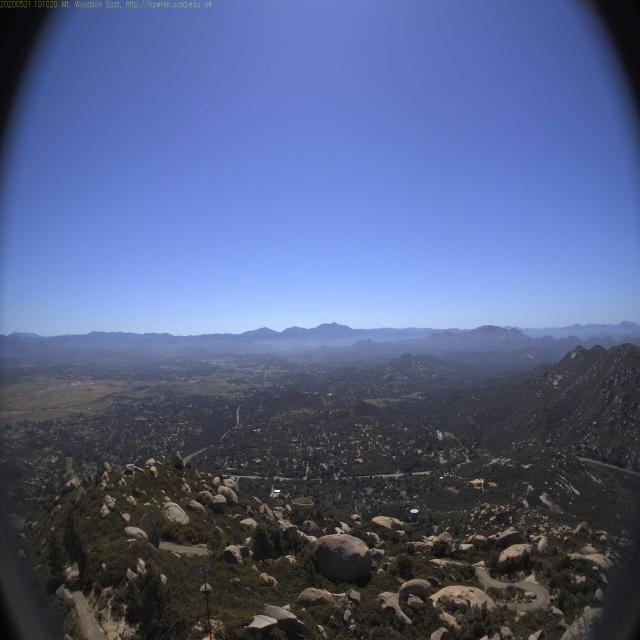smoke: (296, 320, 316, 350)
